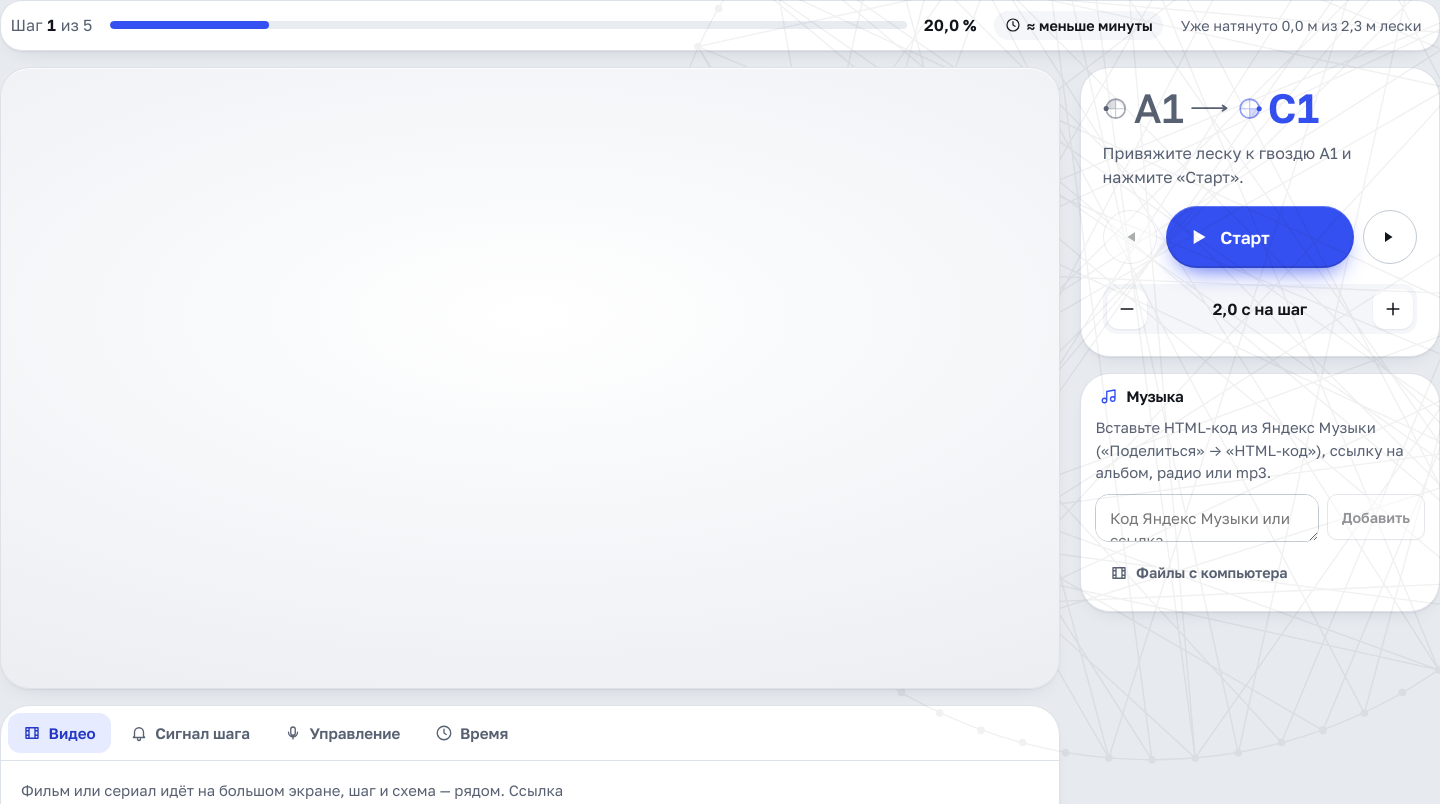
it: WeavePlayer › назад/вперёд и клавиатура
«Вперёд»
Click the button named "Вперёд": x=1390, y=237 [1363,210,1417,264]
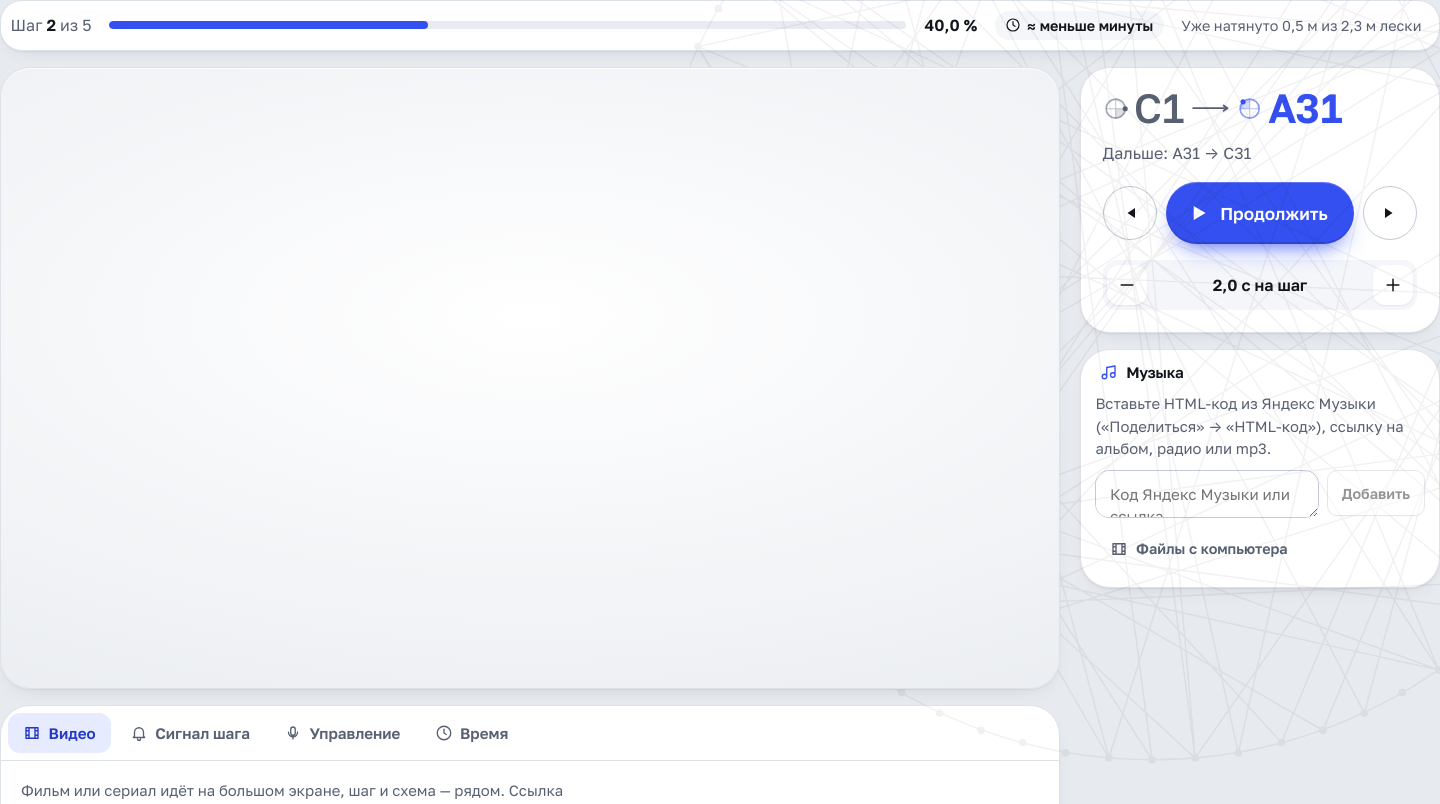
Стрелка вправо
Press ArrowRight
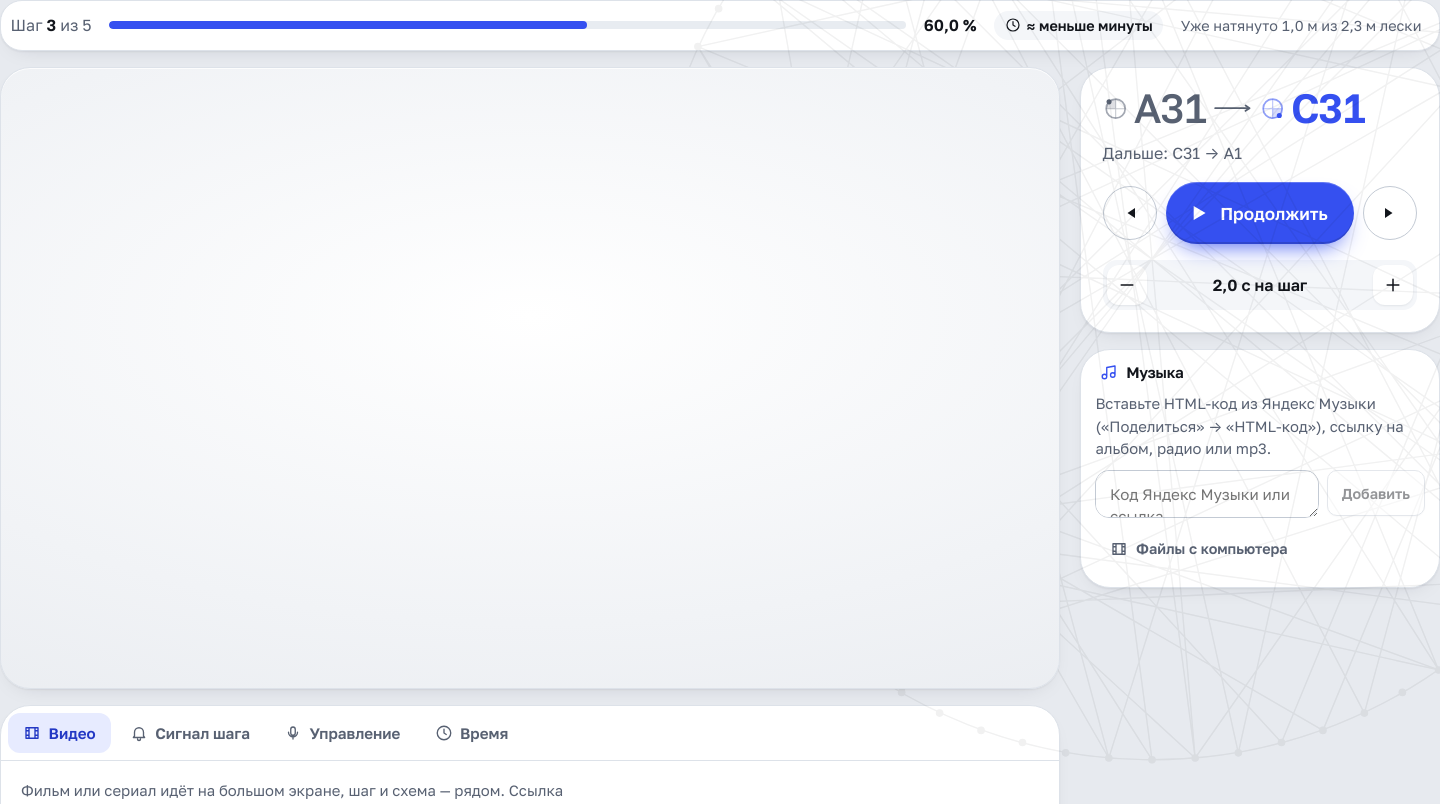
Стрелка влево
Press ArrowLeft
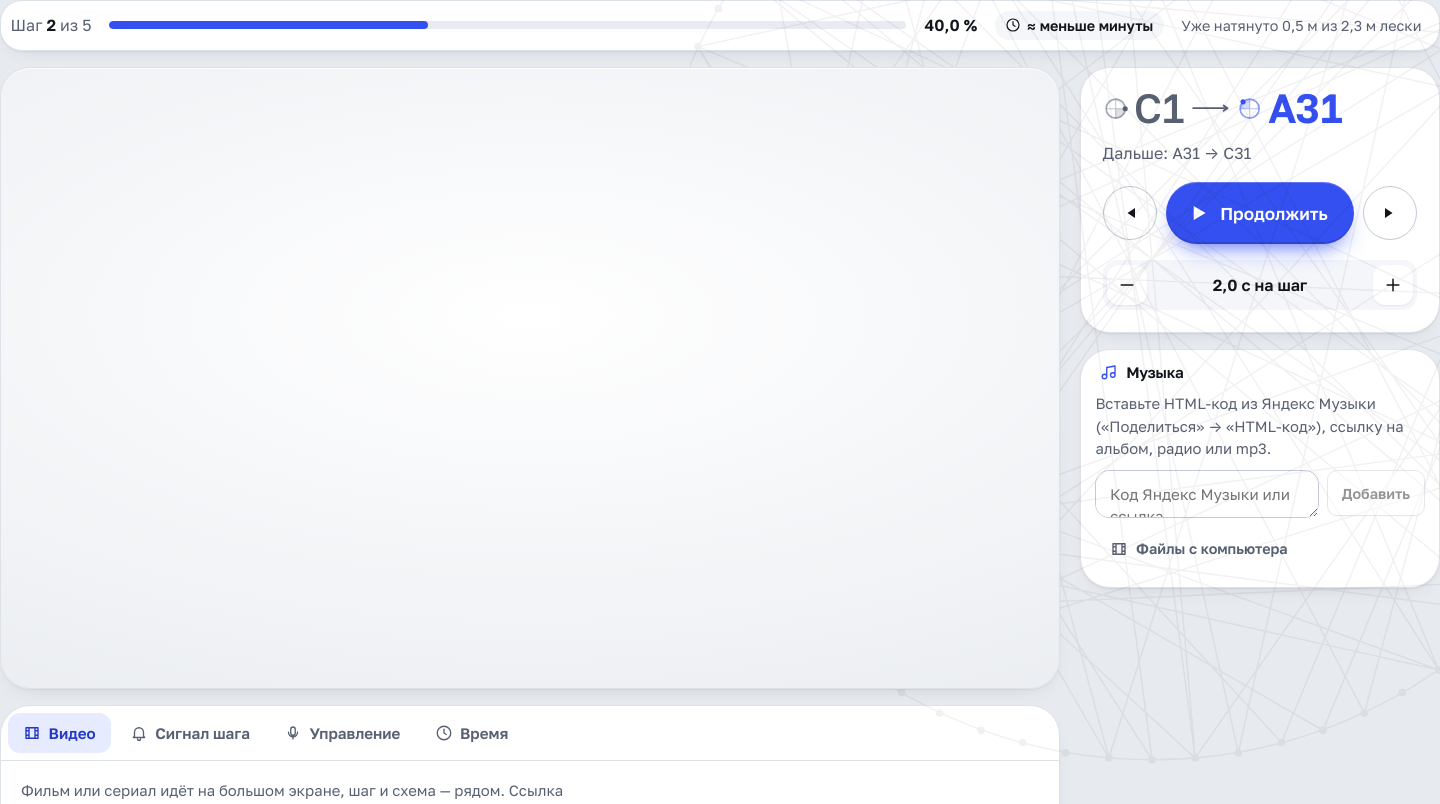
 «Назад»
Click the button named "Назад": x=1130, y=213 [1103,186,1157,240]
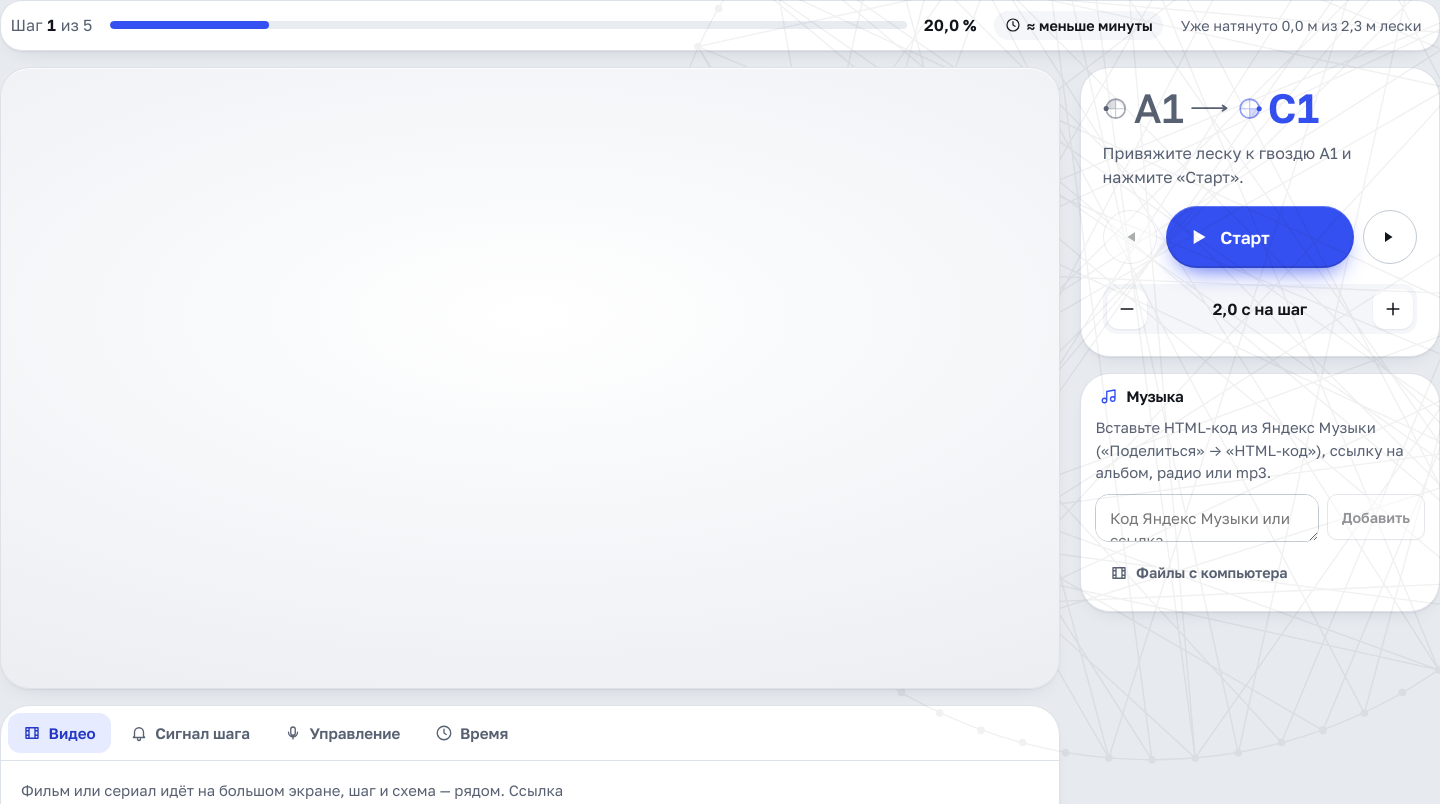
Check: the button named "Назад" is disabled, box [1103,210,1157,264]
Стрелка вверх — быстрее
Press ArrowUp
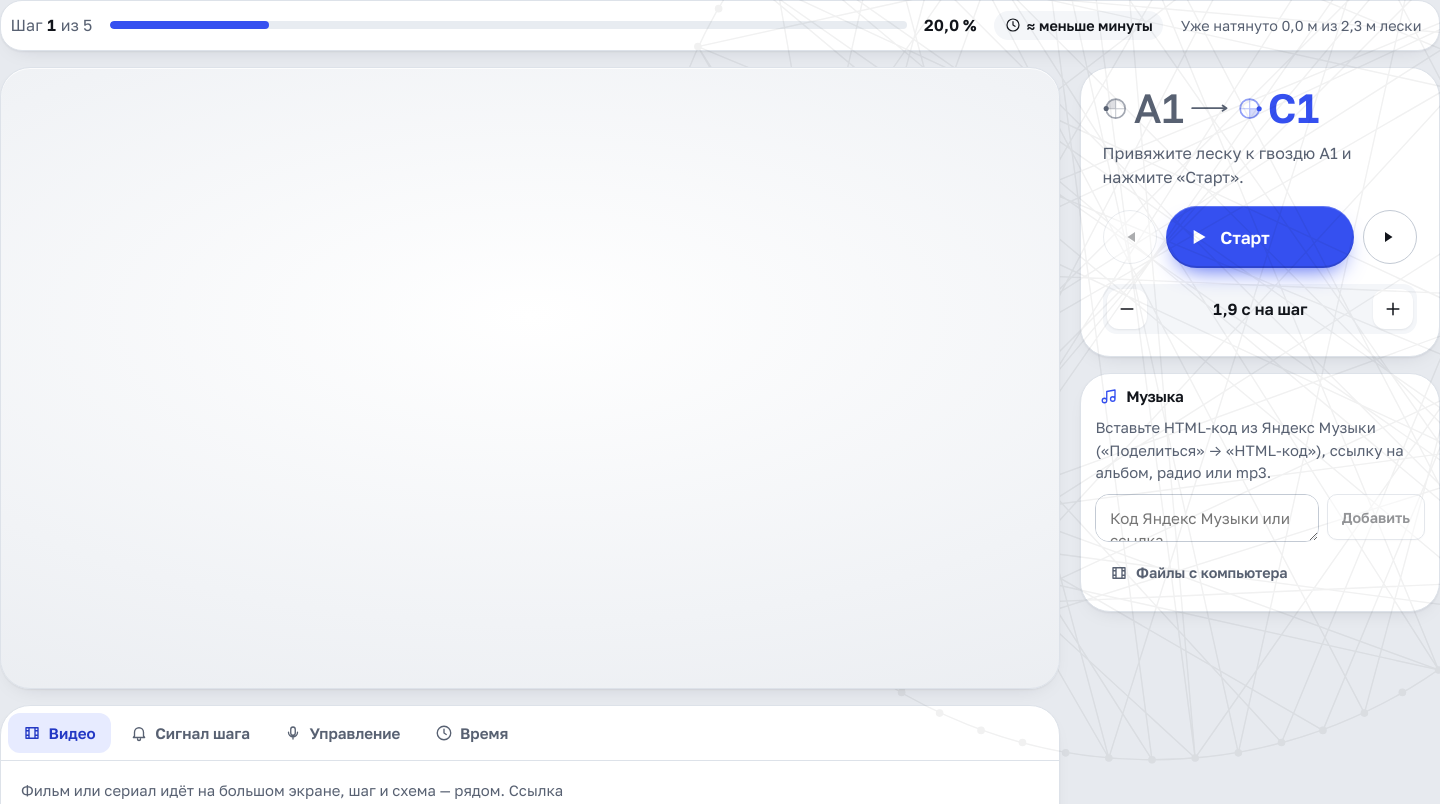
Check: the text with test id "speed" shows "1,9 с", box [1212,299,1251,319]
Пробел — старт
Press Space
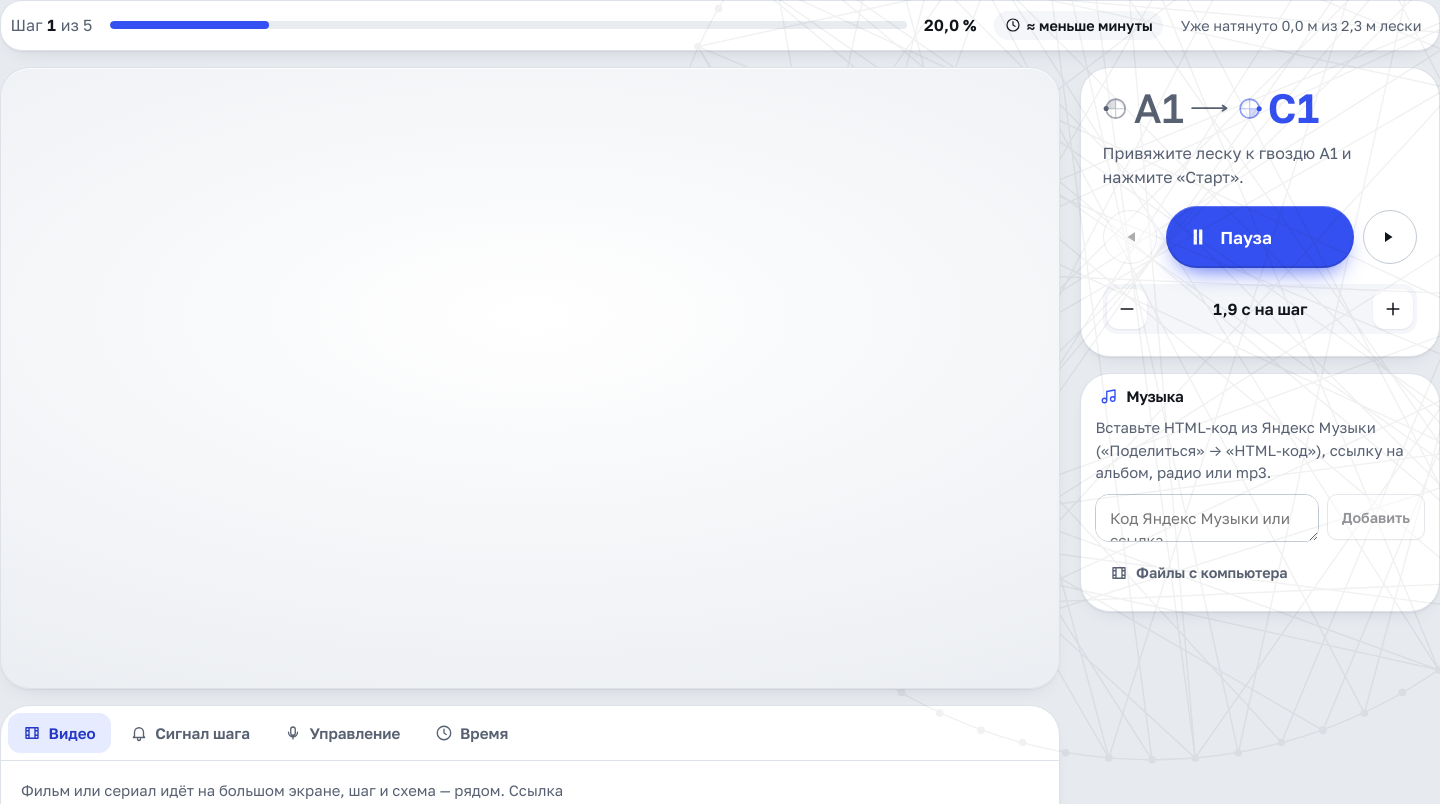
Check: the button "Пауза" is shown, box [1166,206,1354,268]
